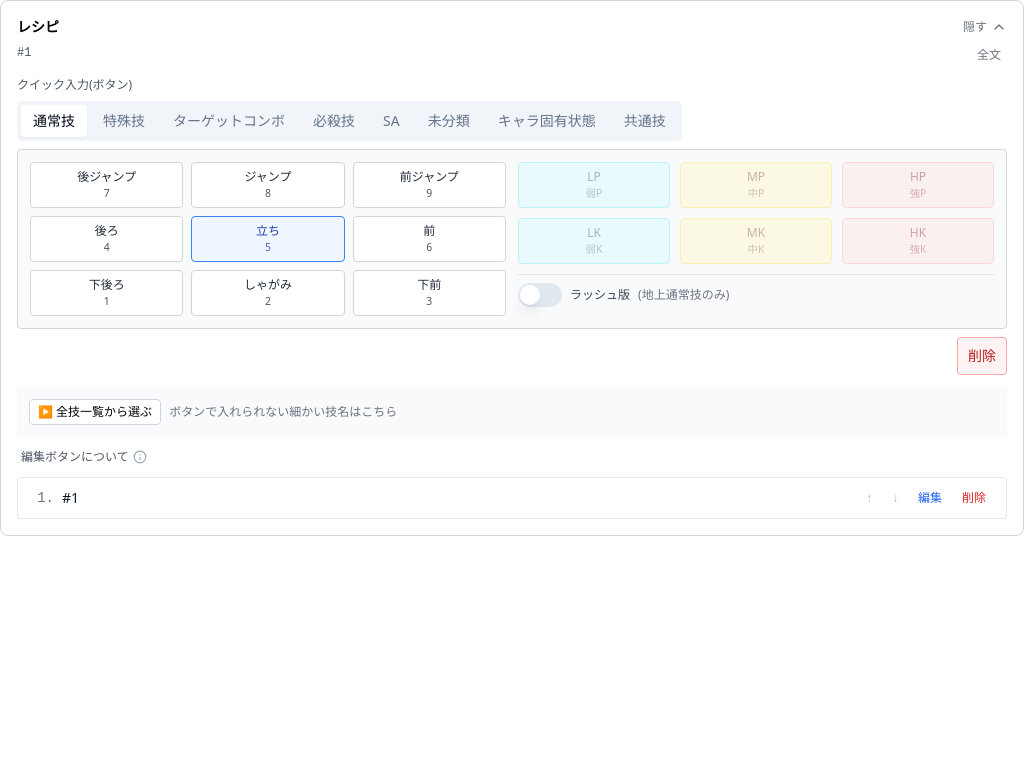
Test: RecipeBuilder info-mark (⑤ 編集ボタンについて・追加ボタンの下/最初の編集ボタンの上) › info-mark クリックで説明が表示される
Click the button with test id "info-mark-recipe-modifier": [140, 457] box x1=133 y1=450 x2=147 y2=464
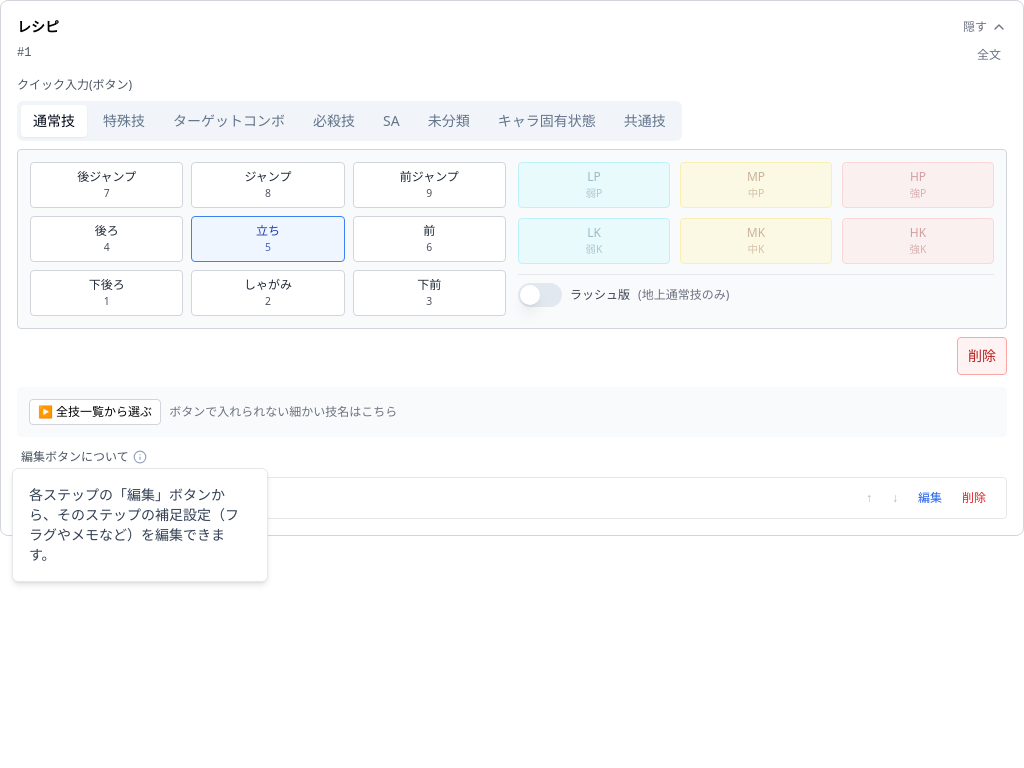
Expected: the text with test id "info-mark-recipe-modifier-content" shows "補足設定", x1=29 y1=485 x2=239 y2=564
